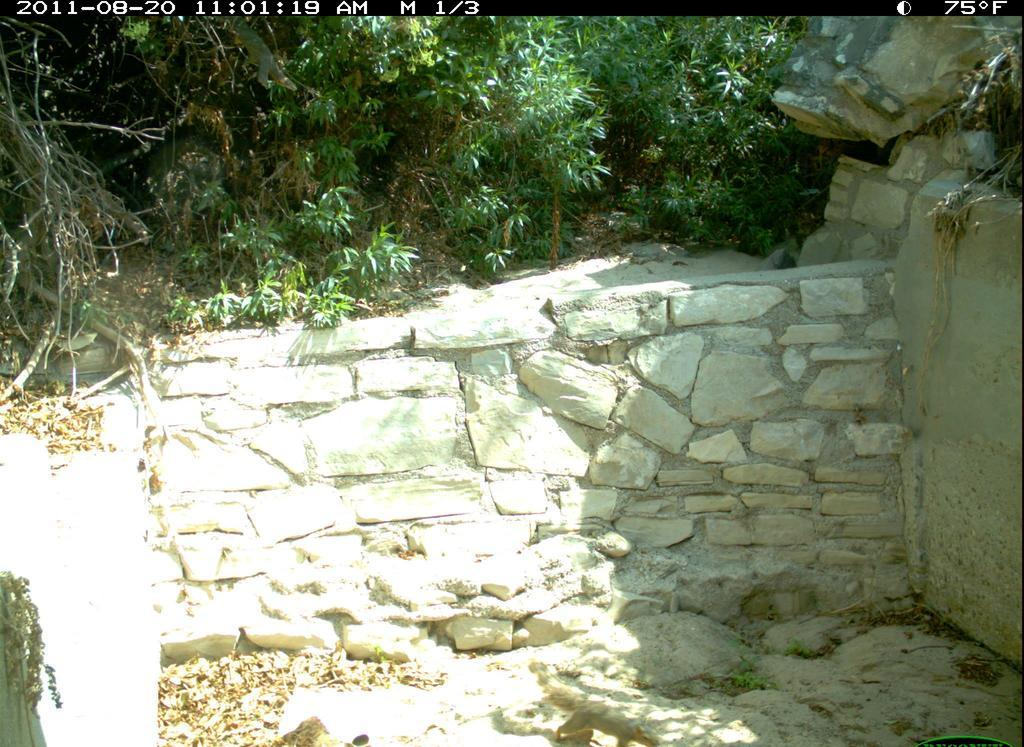squirrel: (529, 667, 667, 747)
